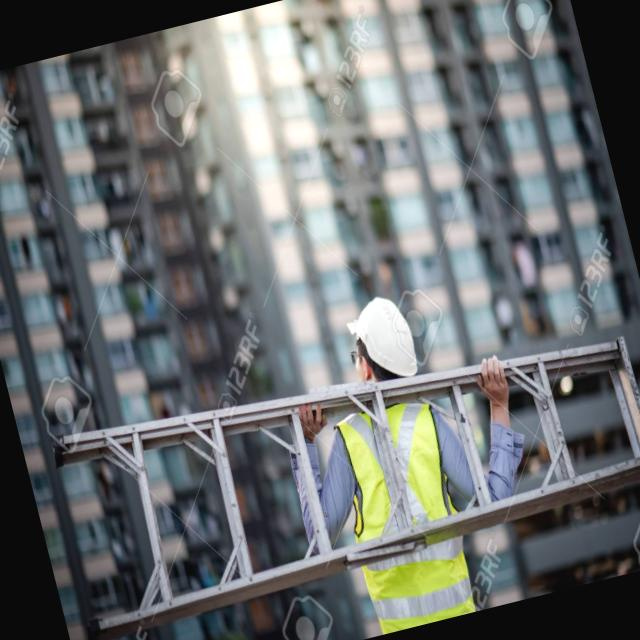helmet: (332, 278, 432, 395)
vest: (326, 388, 482, 634)
